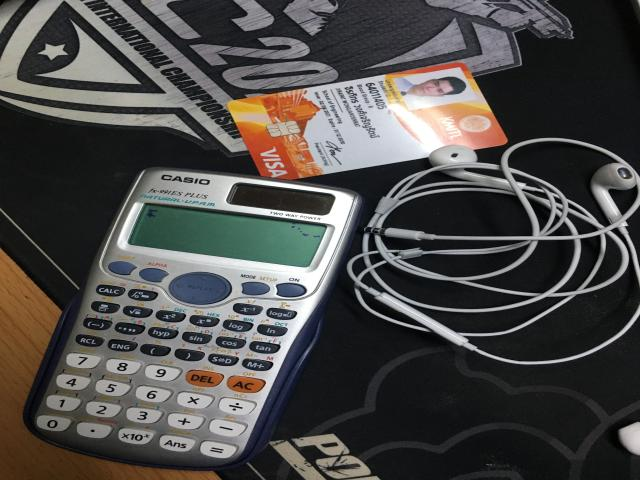wire: (347, 138, 640, 365)
